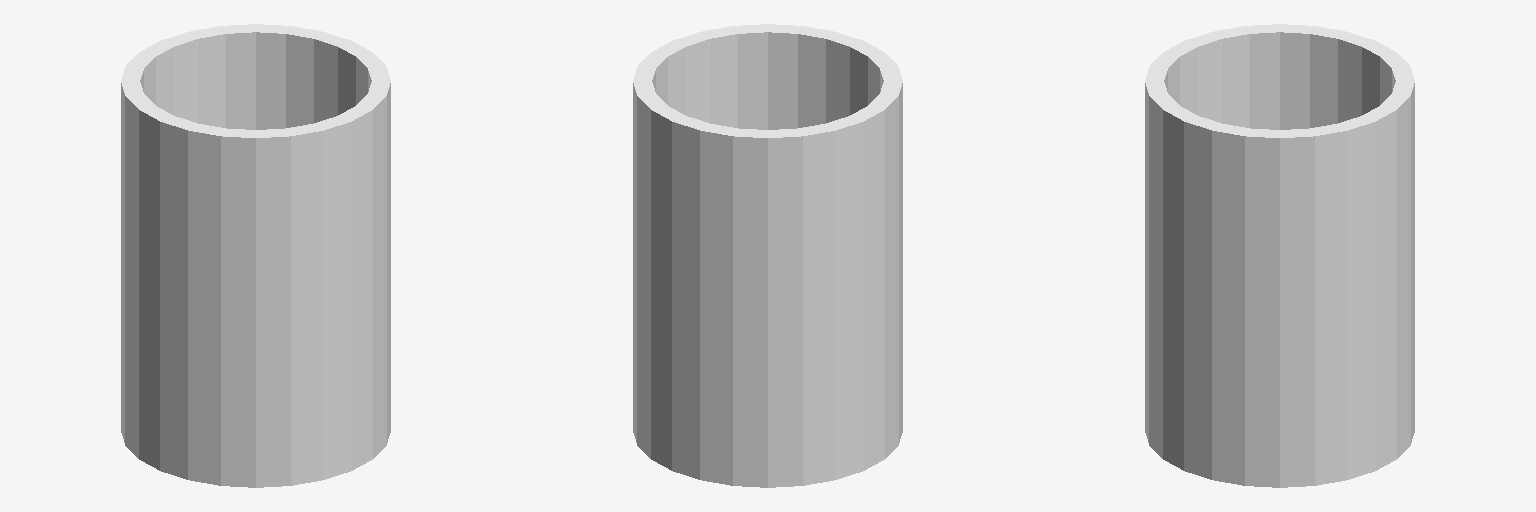
Rendered from Pipe2m.obj.
3 renders of one model, left to right at view 1: azimuth 30°, elevation 25°; view 2: azimuth 150°, elevation 25°; view 3: azimuth 270°, elevation 25°, orthographic.
Parts seen in each view (by area): view 1: Pipe2m_g_4514-Default_Material; view 2: Pipe2m_g_4514-Default_Material; view 3: Pipe2m_g_4514-Default_Material.
Part boxes in pixels (x1,y1,x2,y2): Pipe2m_g_4514-Default_Material: (121, 24, 390, 487); Pipe2m_g_4514-Default_Material: (633, 24, 902, 487); Pipe2m_g_4514-Default_Material: (1145, 24, 1414, 487).
Size of the model in its own units: 1.4 by 2 by 1.4.